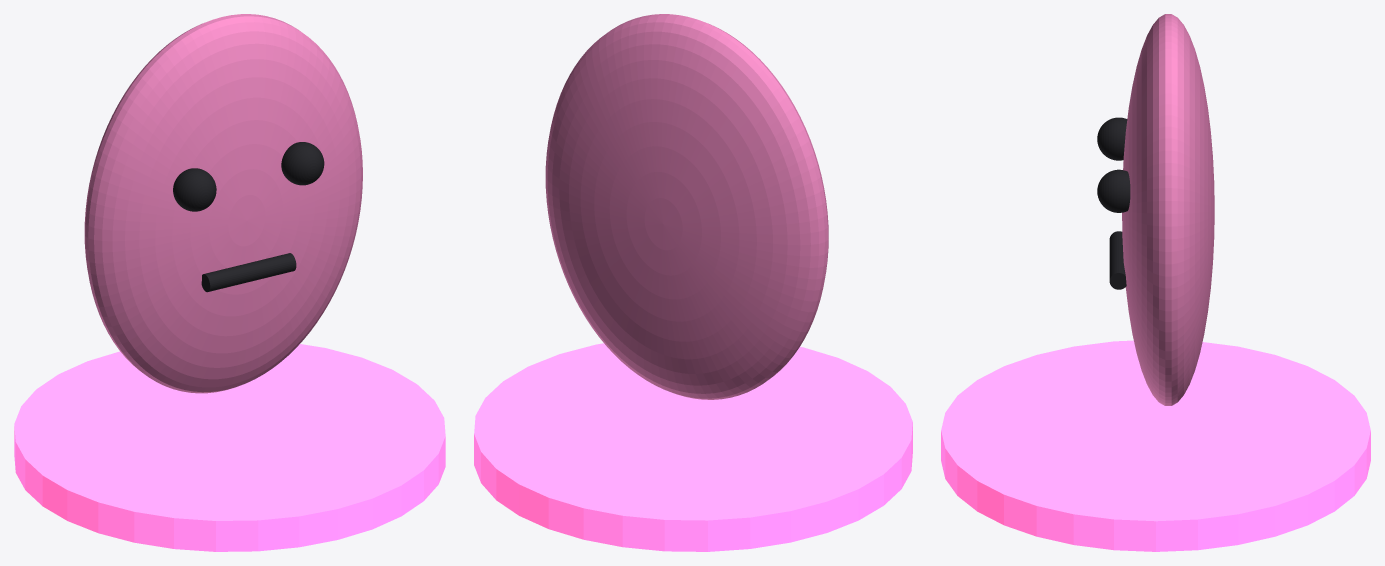
Rendered from beauty_face_mask.glb.
3 renders of one model, left to right at view 1: azimuth 30°, elevation 25°; view 2: azimuth 150°, elevation 25°; view 3: azimuth 270°, elevation 25°, orthographic. The views are drawn at different scales.
Visible parts, largest first — view 1: 03_17_Popular_Beauty_Face_Mask_part_01, 03_17_Popular_Beauty_Face_Mask_ROOT_base, 03_17_Popular_Beauty_Face_Mask_part_04, 03_17_Popular_Beauty_Face_Mask_part_02, 03_17_Popular_Beauty_Face_Mask_part_03; view 2: 03_17_Popular_Beauty_Face_Mask_part_01, 03_17_Popular_Beauty_Face_Mask_ROOT_base; view 3: 03_17_Popular_Beauty_Face_Mask_ROOT_base, 03_17_Popular_Beauty_Face_Mask_part_01, 03_17_Popular_Beauty_Face_Mask_part_03, 03_17_Popular_Beauty_Face_Mask_part_02, 03_17_Popular_Beauty_Face_Mask_part_04.
Boxes of the visible parts, x1=… form: 03_17_Popular_Beauty_Face_Mask_part_01: x1=84, y1=14, x2=362, y2=393; 03_17_Popular_Beauty_Face_Mask_ROOT_base: x1=14, y1=344, x2=445, y2=551; 03_17_Popular_Beauty_Face_Mask_part_04: x1=201, y1=253, x2=296, y2=292; 03_17_Popular_Beauty_Face_Mask_part_02: x1=173, y1=168, x2=216, y2=211; 03_17_Popular_Beauty_Face_Mask_part_03: x1=281, y1=142, x2=324, y2=185; 03_17_Popular_Beauty_Face_Mask_part_01: x1=545, y1=14, x2=828, y2=399; 03_17_Popular_Beauty_Face_Mask_ROOT_base: x1=474, y1=343, x2=912, y2=551; 03_17_Popular_Beauty_Face_Mask_ROOT_base: x1=941, y1=340, x2=1370, y2=551; 03_17_Popular_Beauty_Face_Mask_part_01: x1=1122, y1=14, x2=1214, y2=405; 03_17_Popular_Beauty_Face_Mask_part_03: x1=1097, y1=169, x2=1130, y2=212; 03_17_Popular_Beauty_Face_Mask_part_02: x1=1097, y1=117, x2=1127, y2=160; 03_17_Popular_Beauty_Face_Mask_part_04: x1=1109, y1=231, x2=1126, y2=289.
Size of the model in its own units: 0.76 by 0.85 by 0.76.
